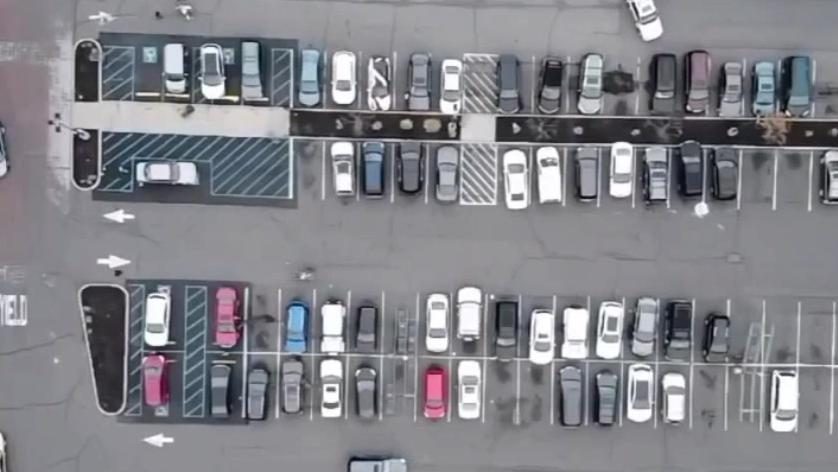car: (451, 358, 489, 425), (767, 365, 802, 435), (781, 55, 817, 120), (644, 51, 679, 116), (496, 149, 531, 214), (131, 158, 202, 190), (627, 0, 674, 46), (681, 47, 712, 116), (708, 149, 744, 208), (313, 359, 346, 423), (557, 363, 589, 429), (628, 363, 662, 425), (325, 138, 358, 201), (674, 141, 707, 204), (591, 368, 623, 431), (491, 298, 522, 363), (494, 53, 525, 117), (533, 146, 566, 206), (527, 308, 561, 366), (666, 296, 697, 359), (660, 370, 691, 433), (569, 142, 601, 203), (211, 284, 241, 349), (422, 284, 451, 349), (578, 52, 606, 119), (351, 363, 382, 423), (421, 363, 452, 423), (560, 302, 592, 360), (197, 44, 230, 100), (455, 281, 483, 347), (596, 299, 626, 360), (431, 143, 460, 205), (393, 140, 423, 199), (356, 138, 385, 199), (319, 300, 350, 357), (331, 49, 360, 109), (404, 49, 433, 109), (245, 364, 273, 426), (159, 41, 190, 97), (643, 144, 672, 203), (139, 355, 168, 414), (236, 43, 265, 101), (751, 62, 780, 120), (704, 310, 734, 366), (208, 361, 235, 423), (143, 291, 171, 350), (295, 47, 322, 108), (537, 56, 563, 119), (437, 55, 464, 115), (632, 294, 657, 358), (367, 53, 395, 110), (281, 358, 308, 417), (610, 142, 636, 203), (281, 301, 310, 354), (718, 54, 743, 115), (346, 450, 414, 472), (356, 304, 380, 357), (0, 112, 16, 187), (819, 152, 838, 210)
